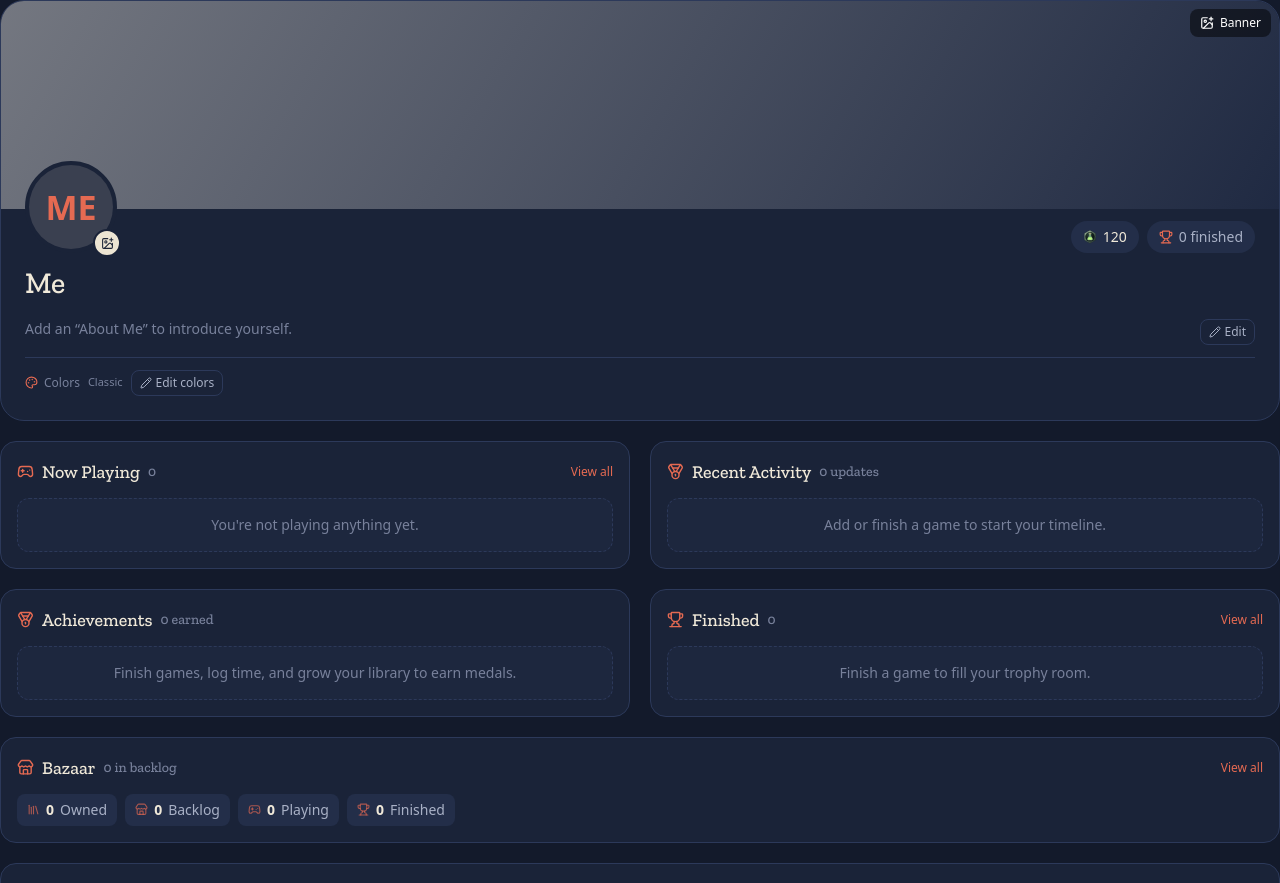
it: ProfileHub — colors (own profile) › opens the Colors modal from the Edit colors row
The width and height of the screenshot is (1280, 883).
Click the button "Edit colors" at (177, 382), box [130,370,223,396]
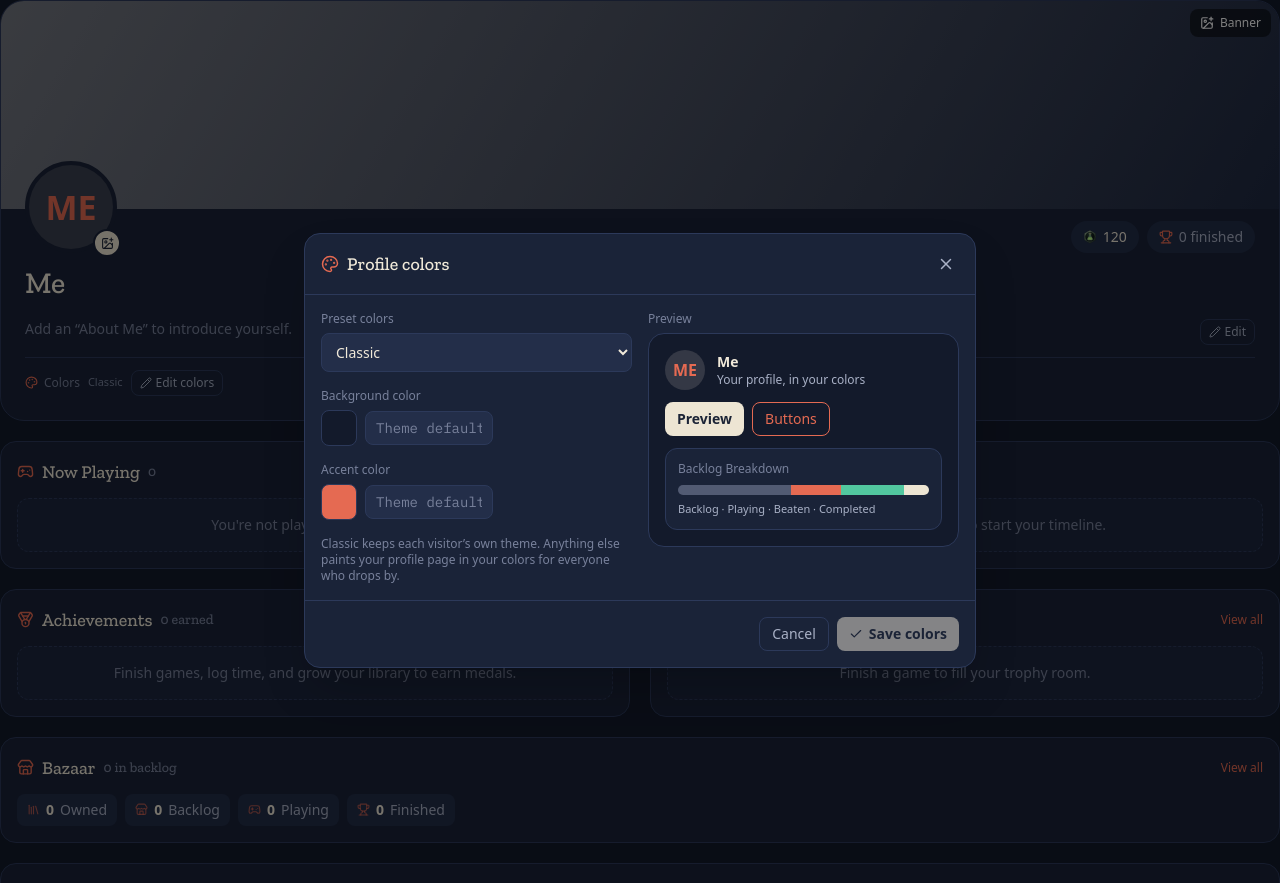
Check: the heading "Profile colors" is shown, box [321,250,450,278]
Check: the dropdown labelled "Preset colors" is shown, box [321,332,632,372]
